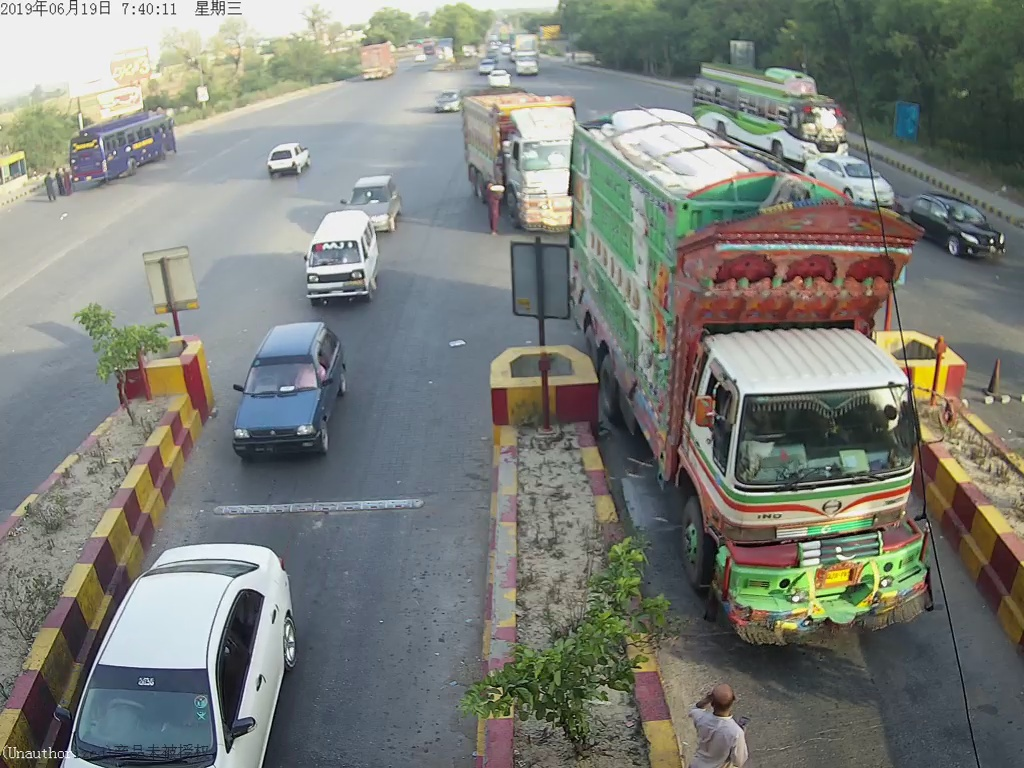Cat-1: (229, 320, 351, 468), (300, 212, 378, 313)
Cat-4: (572, 114, 929, 664)
